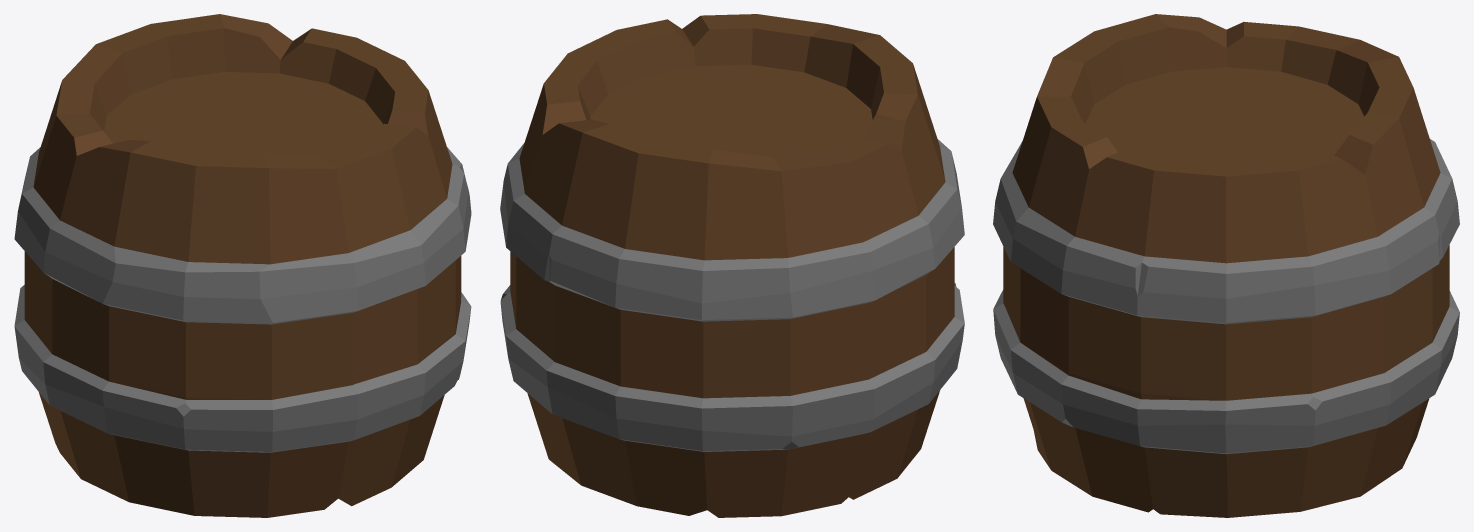
File: BarrelLowPoly.fbx
The picture shows the model from 3 angles, left to right: view 1: azimuth 30°, elevation 25°; view 2: azimuth 150°, elevation 25°; view 3: azimuth 270°, elevation 25°; orthographic projection.
Parts seen in each view (by area): view 1: Cylinder; view 2: Cylinder; view 3: Cylinder.
Boxes of the visible parts, left/top/right/bottom form: Cylinder: left=14, top=14, right=471, bottom=517; Cylinder: left=500, top=14, right=964, bottom=517; Cylinder: left=993, top=14, right=1459, bottom=517.
Size of the model in its own units: 246 by 207 by 246.
